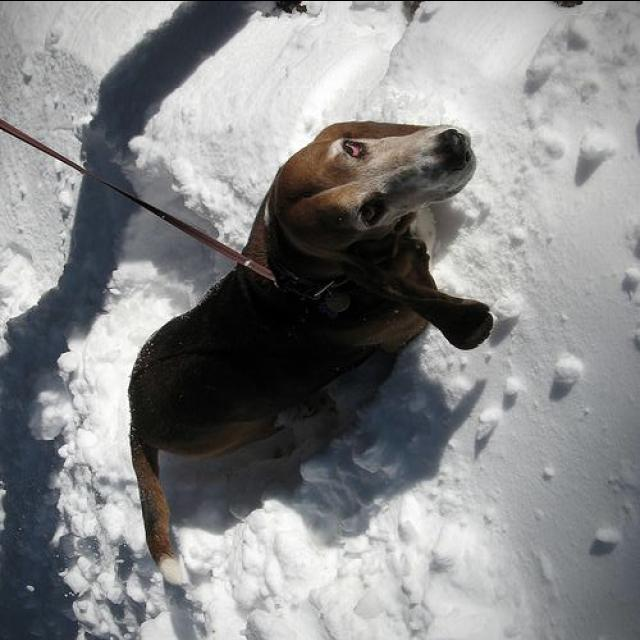basset: (128, 120, 490, 582)
